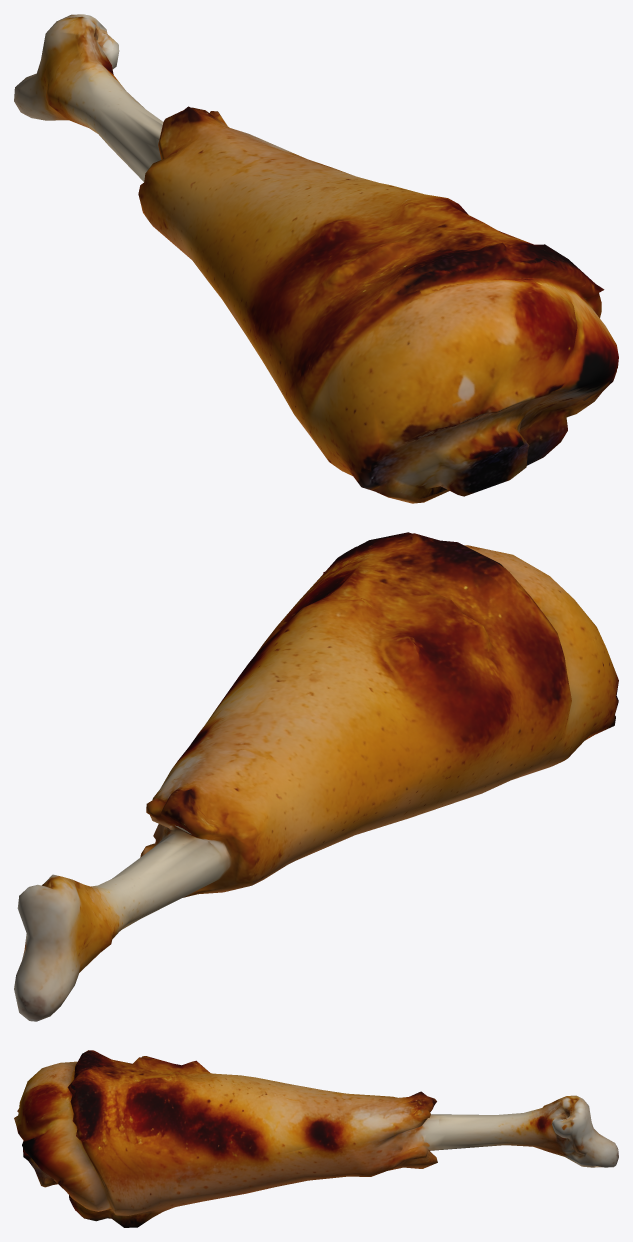
The model's file is SM_ChickenLeg.fbx.
3 views of the same model, one above another, from view 1: azimuth 30°, elevation 25°; view 2: azimuth 150°, elevation 25°; view 3: azimuth 270°, elevation 25° (orthographic). The views are drawn at different scales.
Parts seen in each view (by area): view 1: SM_ChickenLeg; view 2: SM_ChickenLeg; view 3: SM_ChickenLeg.
Part boxes in pixels (x1,y1,x2,y2): SM_ChickenLeg: (14,14,618,503); SM_ChickenLeg: (14,532,618,1021); SM_ChickenLeg: (14,1050,618,1227).
Size of the model in its own units: 0.0643 by 0.05 by 0.1902.
